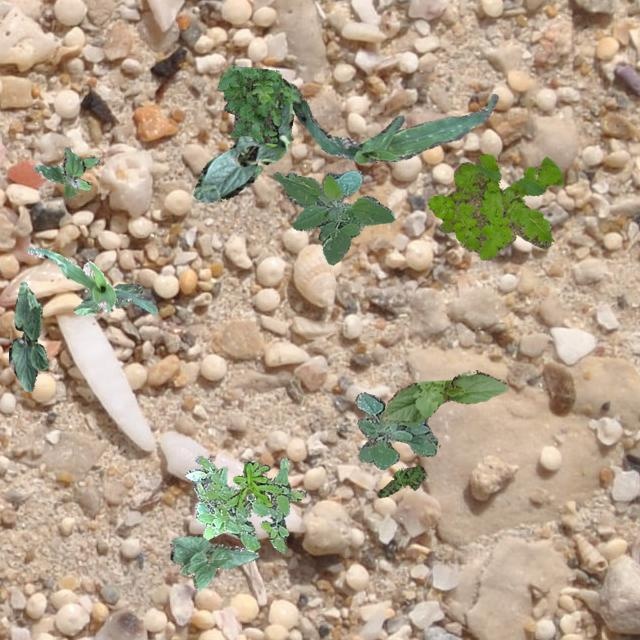crop: (292, 92, 498, 162), (273, 168, 393, 264), (192, 102, 294, 202), (27, 246, 156, 314), (380, 369, 508, 422), (170, 534, 258, 588), (8, 280, 48, 390), (72, 282, 142, 314)
weed: (426, 153, 562, 260), (184, 454, 306, 552), (216, 64, 302, 146), (354, 392, 436, 468), (32, 146, 98, 197), (226, 461, 282, 506), (376, 464, 426, 496)
